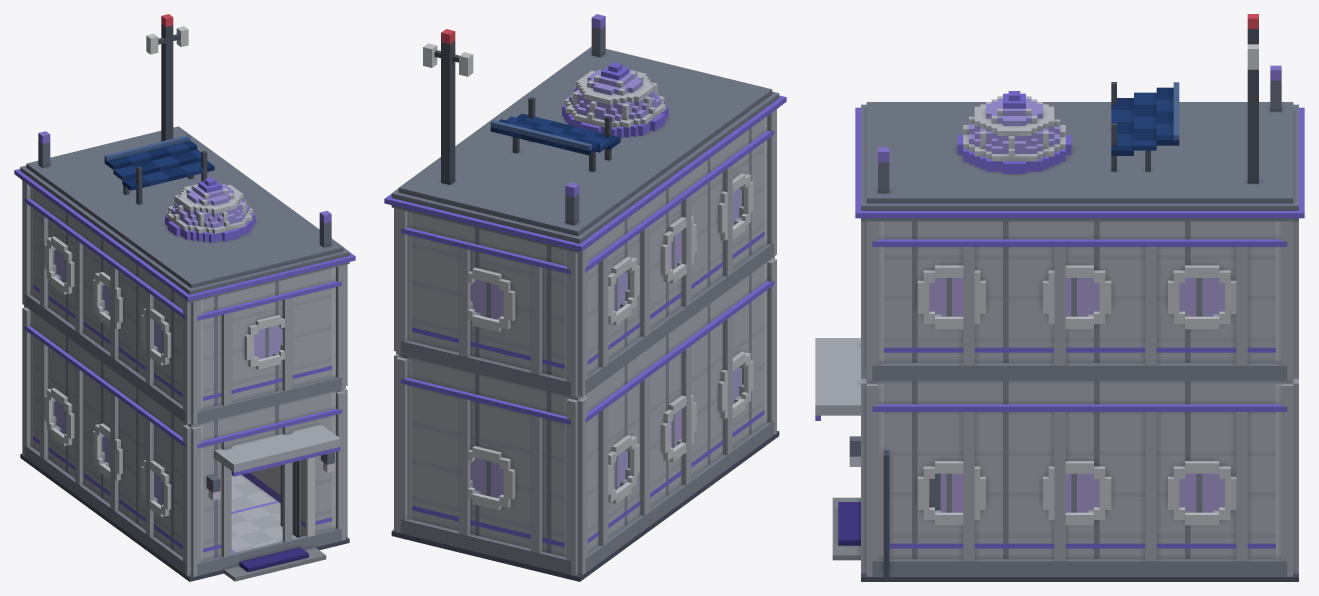
The model's file is lab_e5_l3.glb.
The picture shows the model from 3 angles, left to right: view 1: azimuth 30°, elevation 25°; view 2: azimuth 150°, elevation 25°; view 3: azimuth 270°, elevation 25°; orthographic projection. The views are drawn at different scales.
Parts seen in each view (by area): view 1: CutUpper, Base, CutNX, CutPZ, CutNZ; view 2: CutUpper, CutNZ, CutNX, Base, CutPZ; view 3: CutUpper, CutPX, Base, CutPZ, CutNZ.
Part boxes in pixels (x1,y1,x2,y2): CutUpper: [14, 14, 355, 427]; Base: [20, 420, 349, 581]; CutNX: [24, 312, 185, 532]; CutPZ: [183, 388, 347, 540]; CutNZ: [22, 305, 32, 423]; CutUpper: [384, 14, 786, 400]; CutNZ: [394, 354, 587, 533]; CutNX: [585, 264, 774, 524]; Base: [391, 391, 779, 581]; CutPZ: [764, 256, 776, 394]; CutUpper: [855, 14, 1304, 383]; CutPX: [872, 383, 1287, 530]; Base: [832, 473, 1298, 581]; CutPZ: [815, 338, 889, 532]; CutNZ: [1276, 378, 1298, 530].
Bounding box in the file's own units: 4.4 × 10.6 × 8.6.
